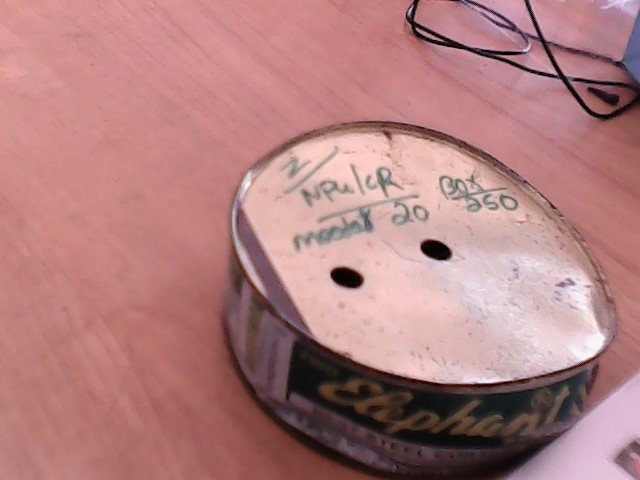Metal: (215, 106, 635, 480)
